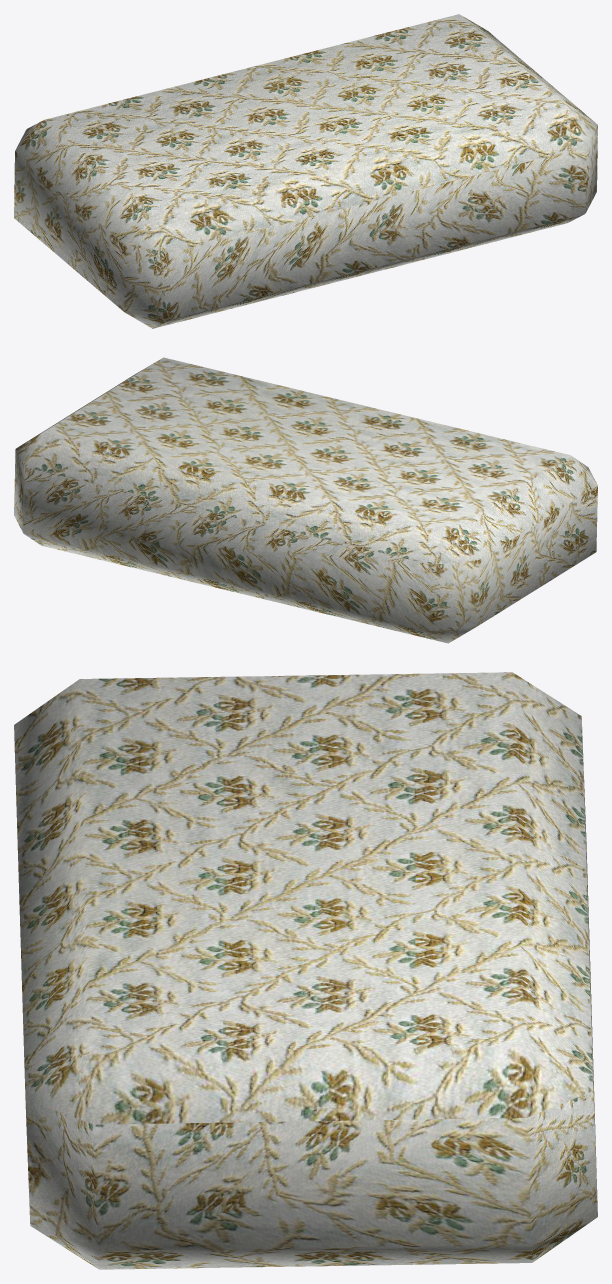
File: PIllow_Lg_Rectangular.fbx
3 views of the same model, one above another, from view 1: azimuth 30°, elevation 25°; view 2: azimuth 150°, elevation 25°; view 3: azimuth 270°, elevation 25° (orthographic). The views are drawn at different scales.
Visible parts, largest first — view 1: PillowLG_rectangular; view 2: PillowLG_rectangular; view 3: PillowLG_rectangular.
Boxes of the visible parts, x1,y1,x2,y2 form: PillowLG_rectangular: (14, 14, 597, 328); PillowLG_rectangular: (14, 357, 597, 643); PillowLG_rectangular: (14, 672, 597, 1269).
Bounding box in the file's own units: 122 × 30.21 × 69.23.
